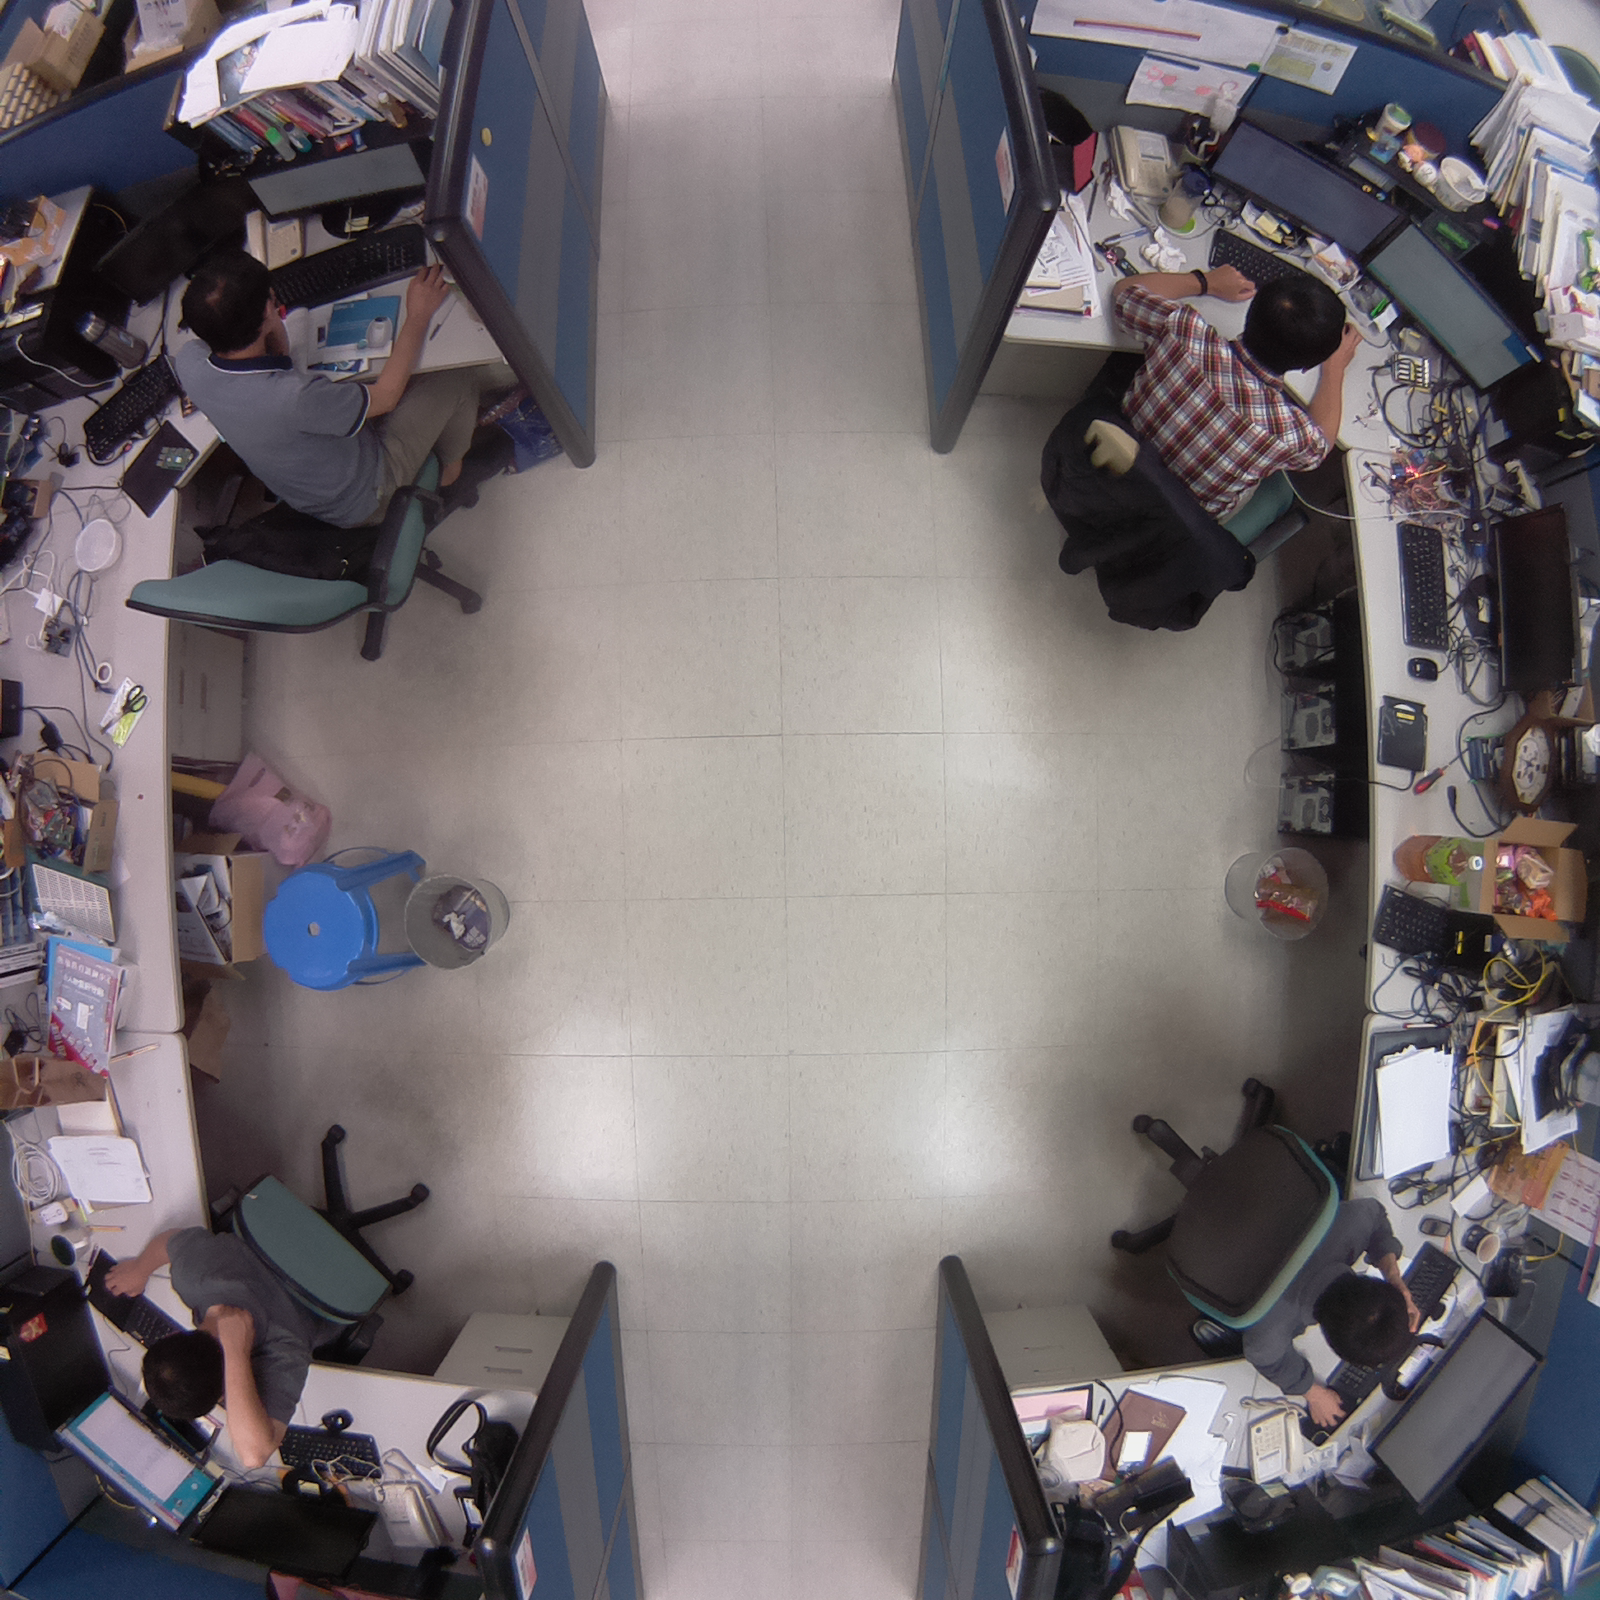head: (1237, 265, 1351, 378), (174, 251, 283, 353), (1314, 1270, 1424, 1372), (137, 1324, 237, 1432)
sitting: (114, 241, 512, 678), (1004, 246, 1361, 652), (104, 1091, 440, 1471), (1096, 1065, 1433, 1434)
